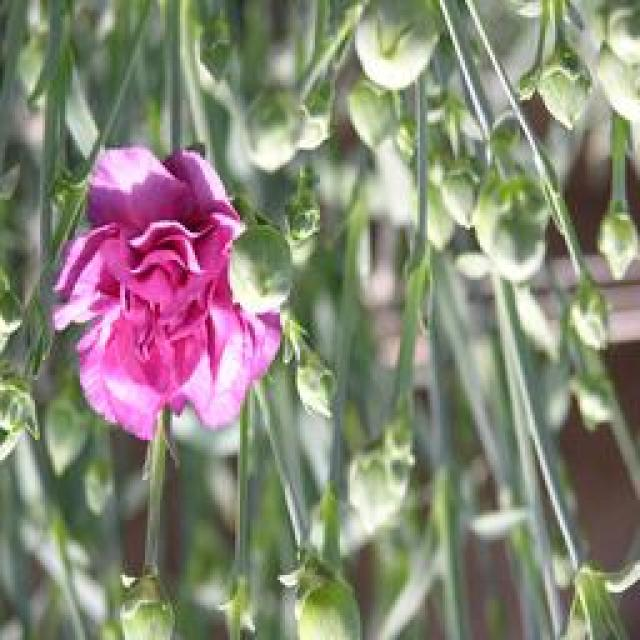carnation: (44, 148, 281, 448)
